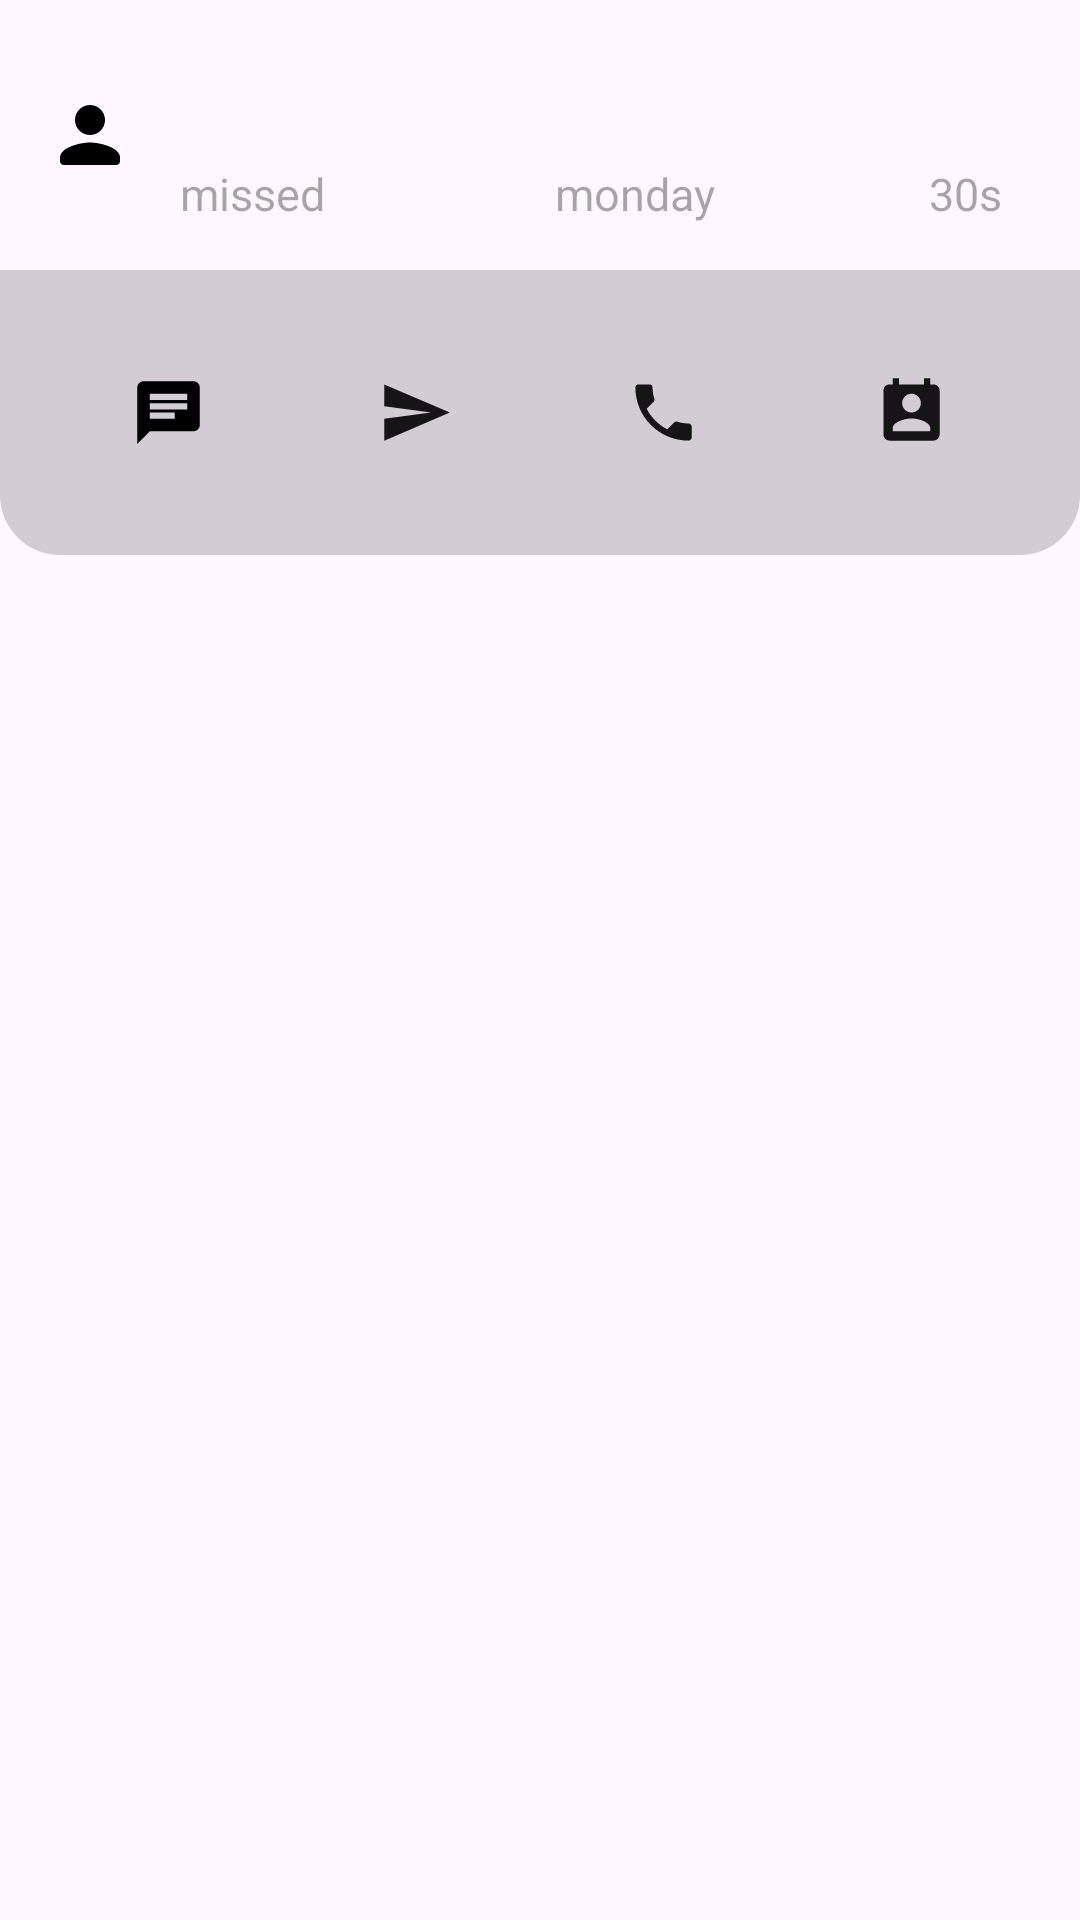

Icon bounding boxes for this 1080px×1920px phone screenshot, format (x1, y1, x2, y2):
call reciepient again: (635, 384, 692, 441)
person: (60, 105, 120, 165)
send credit to user: (384, 384, 450, 441)
Send message: (137, 381, 200, 444)
